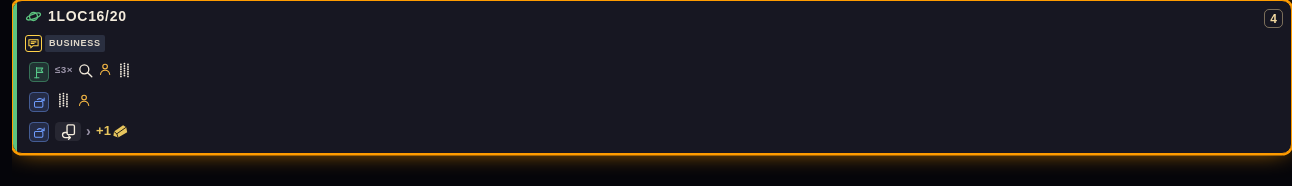
Test: CardTile › rings a candidate of the pending choice and toggles the selection
This screenshot has width=1292, height=186.
Click the button "1LOC16/20 4 BUSINESS ≤3× › +1": {"x": 652, "y": 77} [12,0,1291,154]
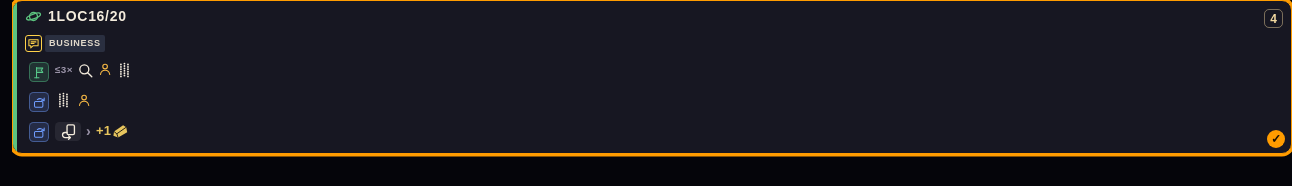
Expected: the button "1LOC16/20 4 BUSINESS ≤3× › +1" has class "pb-picked"
